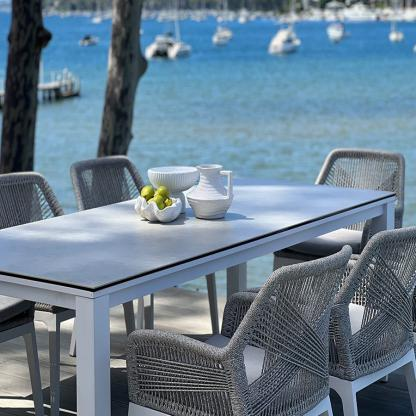table: (0, 170, 401, 415)
